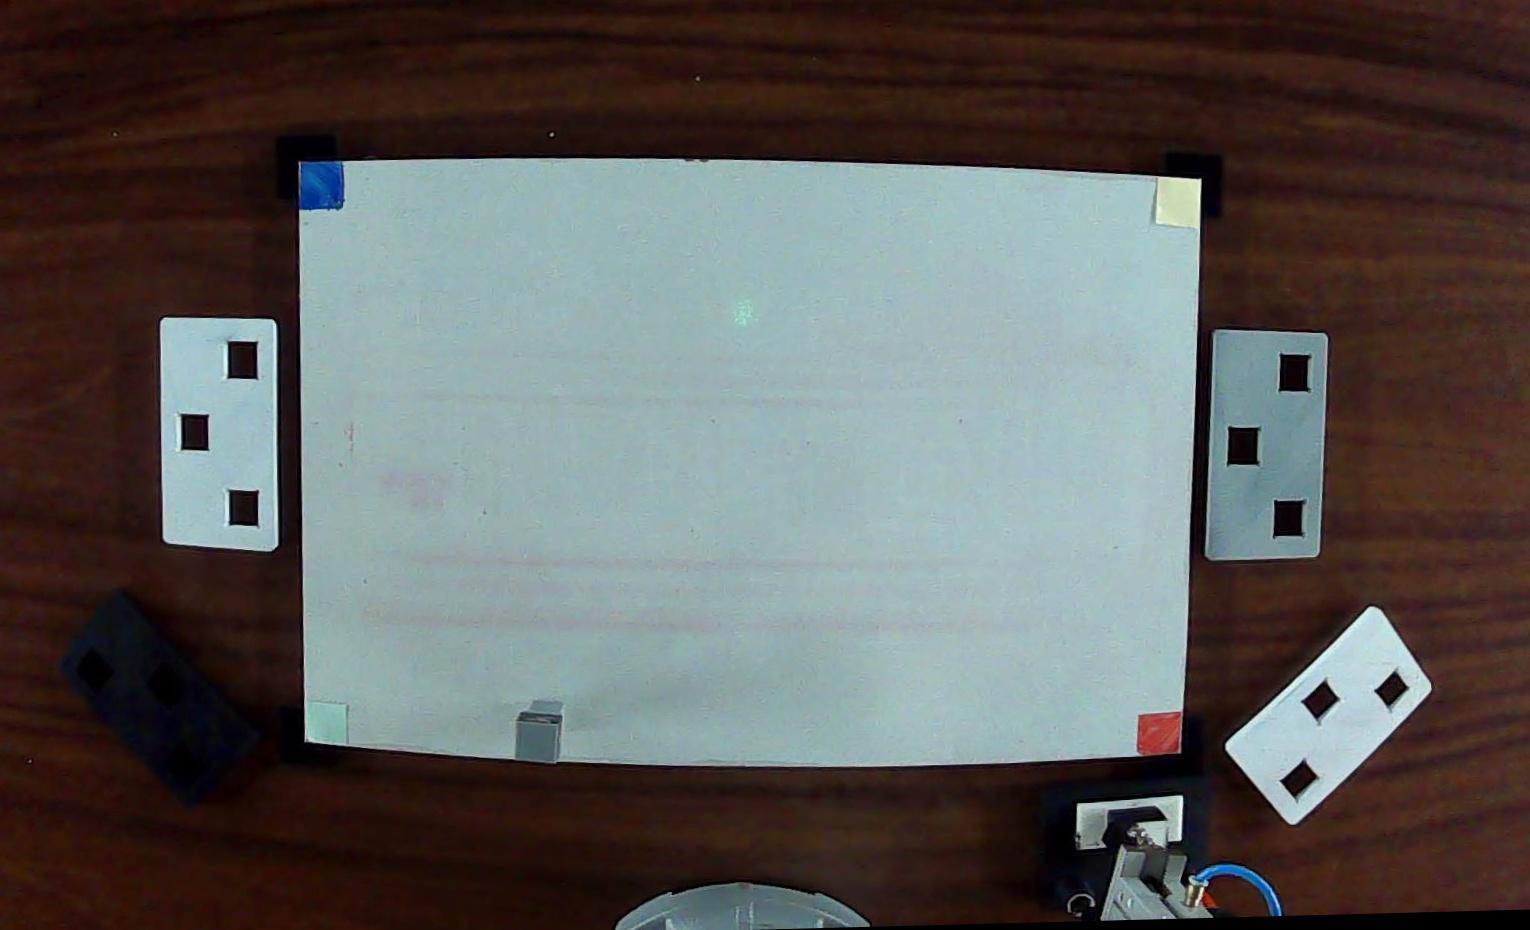pecaCinza: (506, 706, 567, 767)
